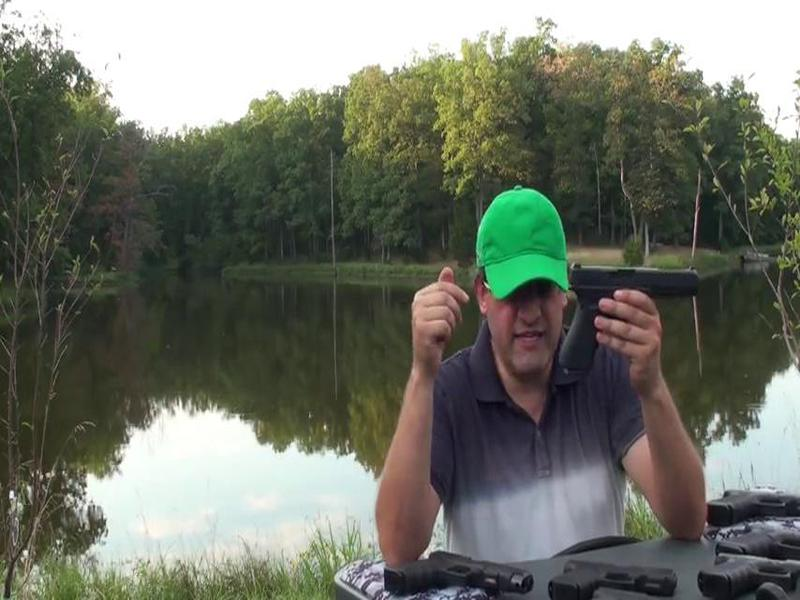Pistola: (534, 247, 726, 400)
